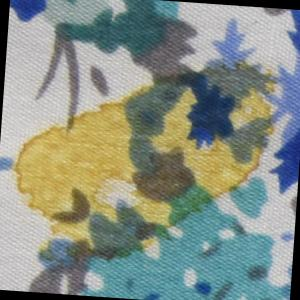Oil Stain: (7, 42, 282, 282)
